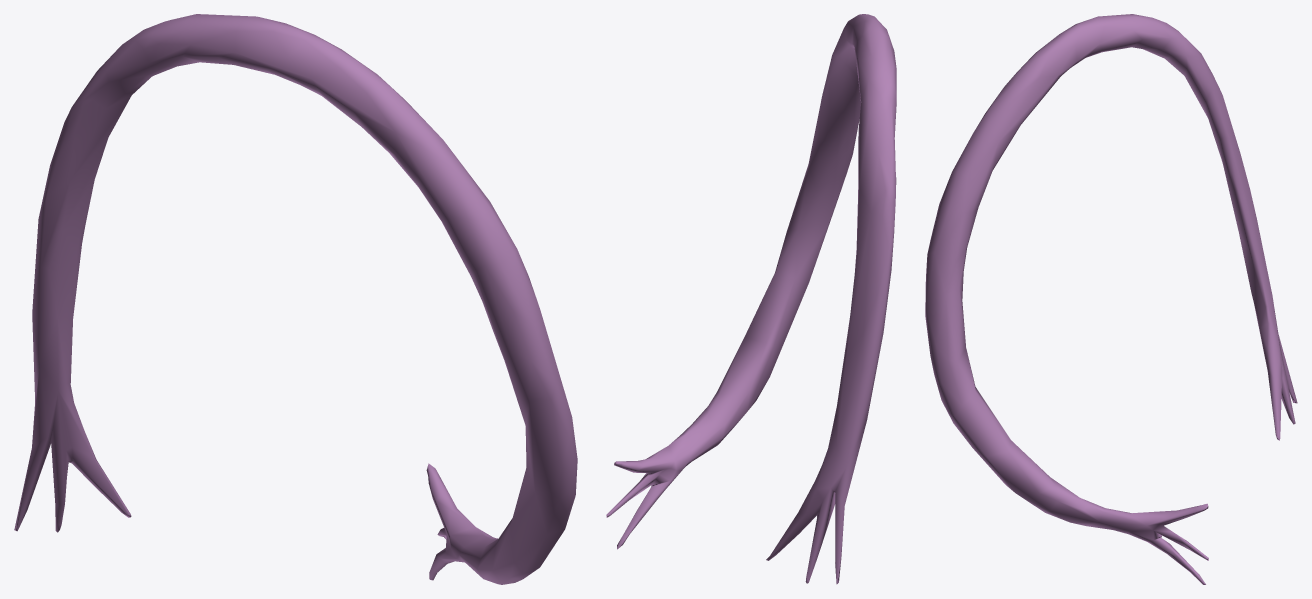
3 views of the same model, side by side, from view 1: azimuth 30°, elevation 25°; view 2: azimuth 150°, elevation 25°; view 3: azimuth 270°, elevation 25° (orthographic). The views are drawn at different scales.
Parts seen in each view (by area): view 1: 右侧终纹; view 2: 右侧终纹; view 3: 右侧终纹.
Part boxes in pixels (x1=…): 右侧终纹: x1=14, y1=14, x2=577, y2=584; 右侧终纹: x1=606, y1=14, x2=896, y2=584; 右侧终纹: x1=925, y1=14, x2=1297, y2=584.
Size of the model in its own units: 0.0367 by 0.0624 by 0.0441.
